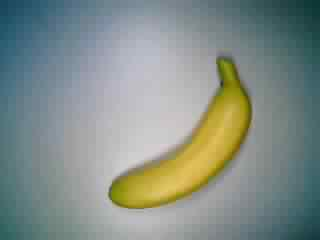banana: (102, 52, 260, 211)
